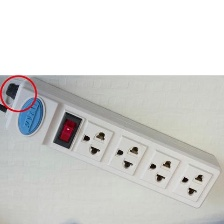three_eye_plug: (1, 73, 223, 211)
